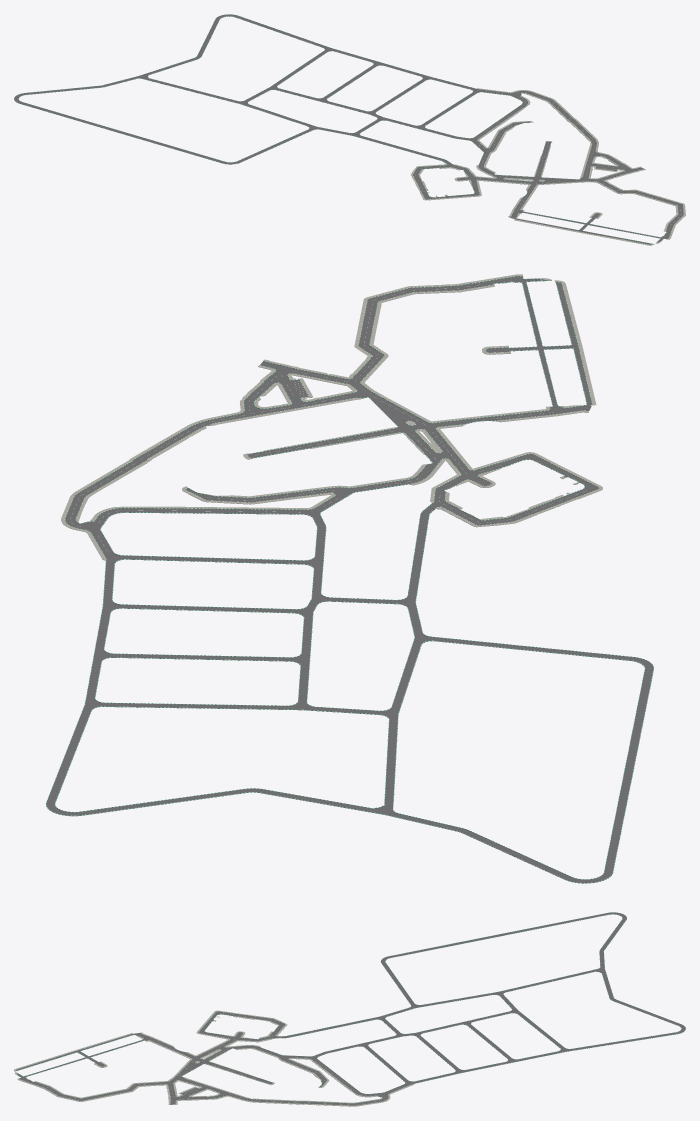
The model's file is Voirie.glb.
3 renders of one model, top to bottom at view 1: azimuth 30°, elevation 25°; view 2: azimuth 150°, elevation 25°; view 3: azimuth 270°, elevation 25°, orthographic. The views are drawn at different scales.
Visible parts, largest first — view 1: Route, Trottoir_dallage_2m, Bordures_blanches, Bordures_vertes; view 2: Route, Trottoir_dallage_2m, Bordures_vertes, Bordures_blanches; view 3: Route, Trottoir_dallage_2m, Bordures_vertes, Bordures_blanches.
Boxes of the visible parts, left/top/right/bottom form: Route: left=14, top=14, right=683, bottom=244; Trottoir_dallage_2m: left=411, top=88, right=685, bottom=245; Bordures_blanches: left=14, top=14, right=683, bottom=242; Bordures_vertes: left=14, top=14, right=683, bottom=244; Route: left=46, top=276, right=653, bottom=883; Trottoir_dallage_2m: left=61, top=274, right=602, bottom=560; Bordures_vertes: left=46, top=276, right=653, bottom=883; Bordures_blanches: left=46, top=276, right=653, bottom=883; Route: left=16, top=912, right=685, bottom=1105; Trottoir_dallage_2m: left=14, top=1010, right=414, bottom=1106; Bordures_vertes: left=16, top=912, right=685, bottom=1105; Bordures_blanches: left=17, top=912, right=685, bottom=1105.
Bounding box in the file's own units: 492 × 0.2189 × 719.
5 materials, 5 textured.
